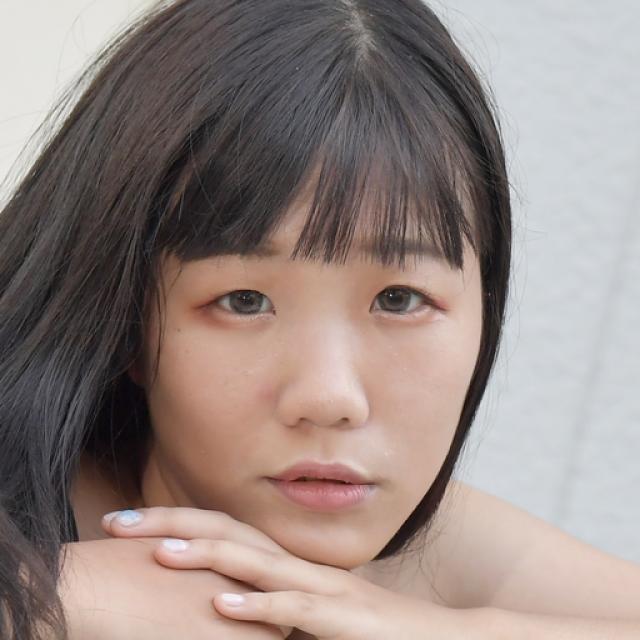neutral: (147, 162, 485, 568)
